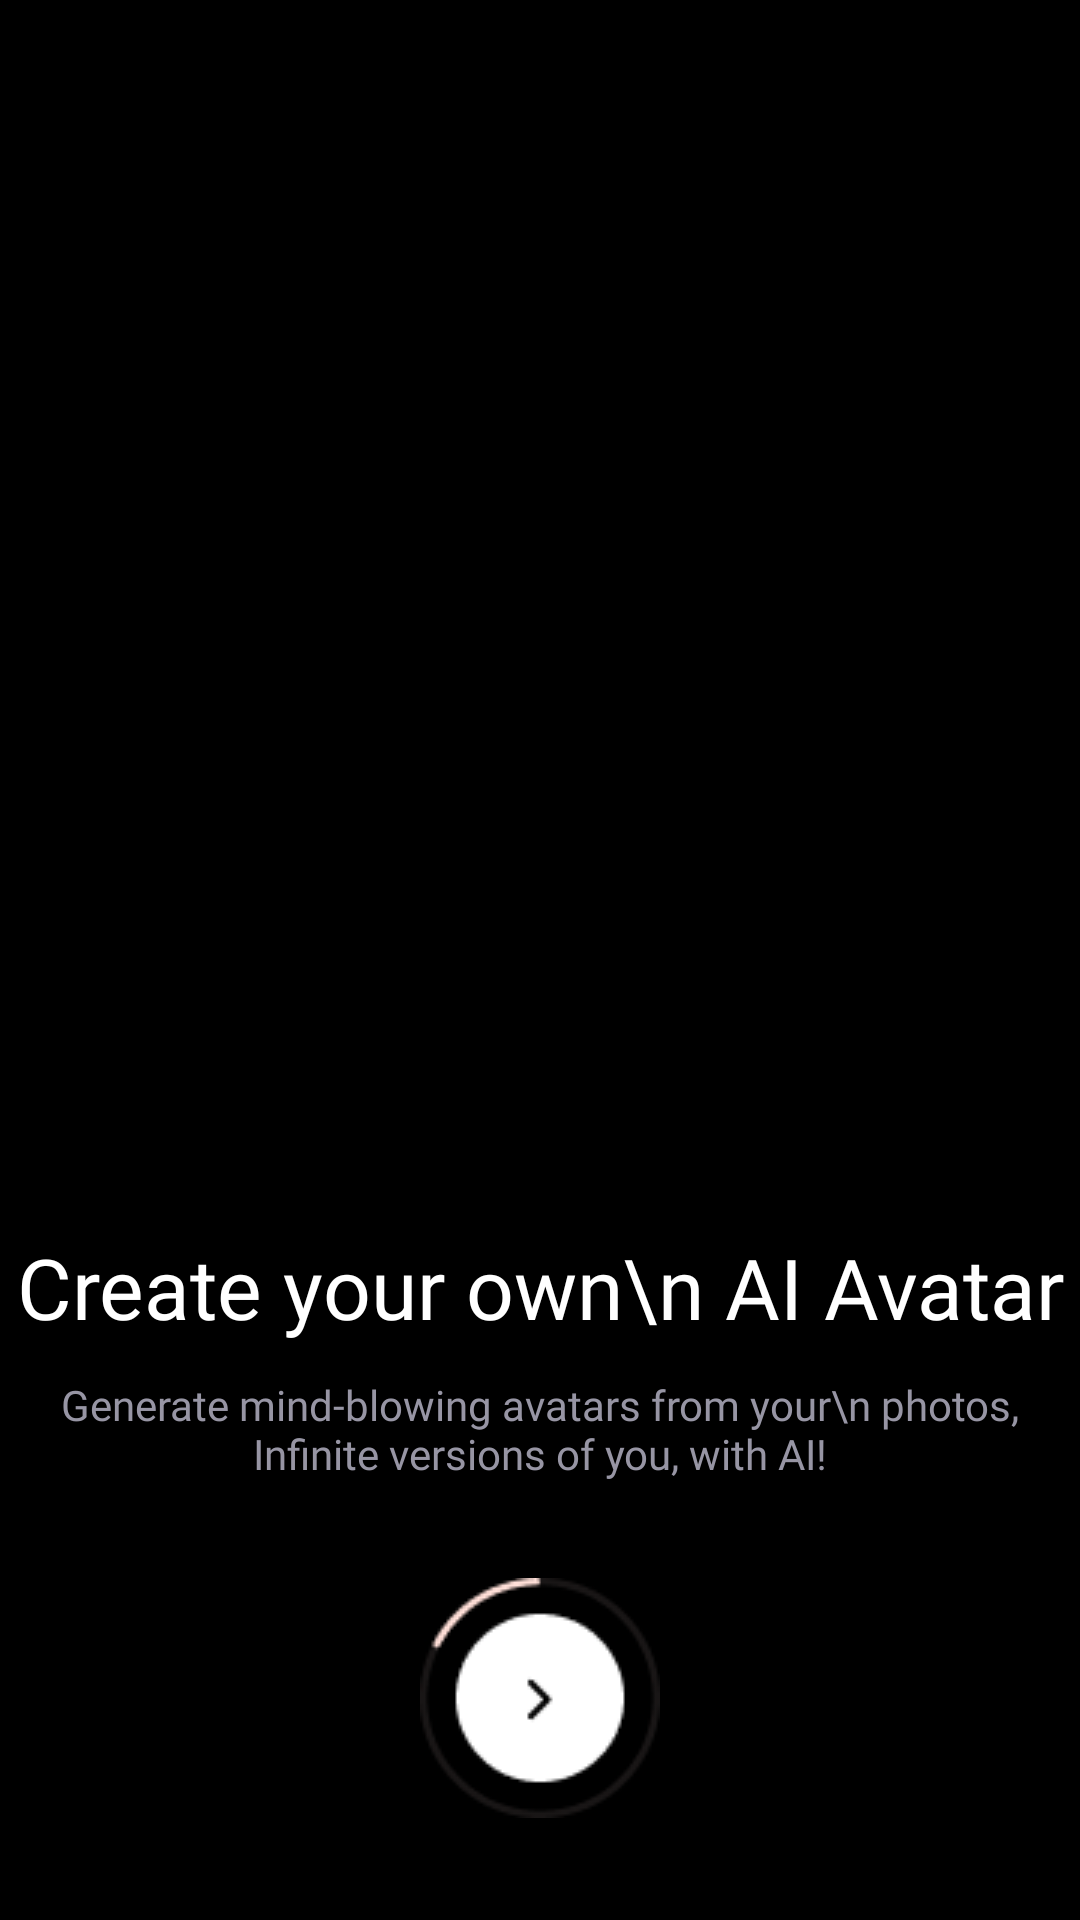

Screen size 1080px×1920px. Icon name, then its center in pixels as (x,y):
onboard next two: (540,1698)
